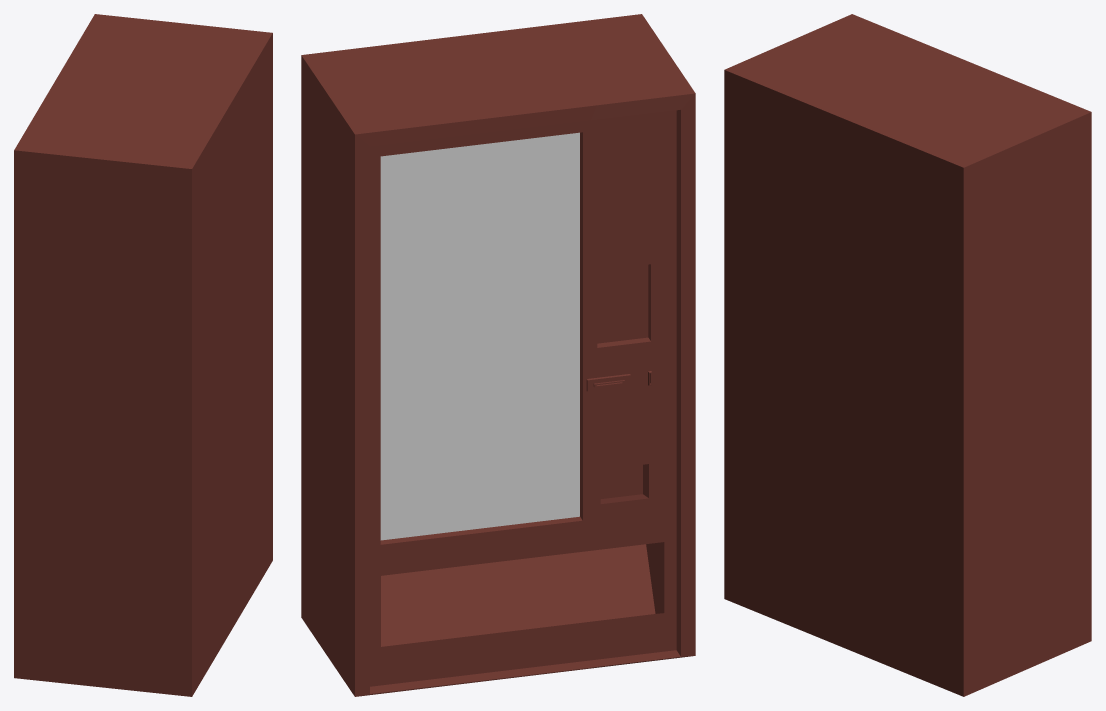
The model's file is Vending Machine Red.fbx.
3 renders of one model, left to right at view 1: azimuth 30°, elevation 25°; view 2: azimuth 150°, elevation 25°; view 3: azimuth 270°, elevation 25°, orthographic. The views are drawn at different scales.
Visible parts, largest first — view 1: Vending Machine Red; view 2: Vending Machine Red; view 3: Vending Machine Red.
Part boxes in pixels (x1=…): Vending Machine Red: x1=14, y1=14, x2=272, y2=696; Vending Machine Red: x1=301, y1=14, x2=695, y2=696; Vending Machine Red: x1=724, y1=14, x2=1091, y2=696.
Size of the model in its own units: 185 by 187 by 296.
